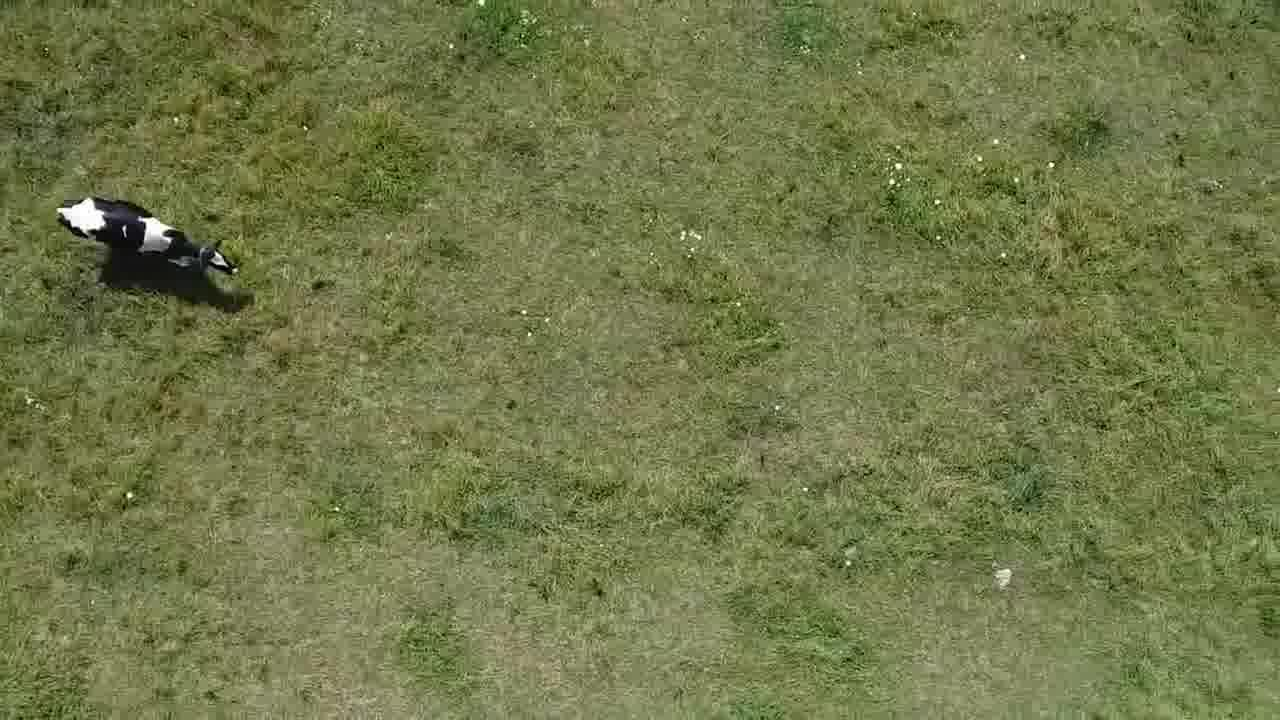cow: (48, 194, 244, 283)
